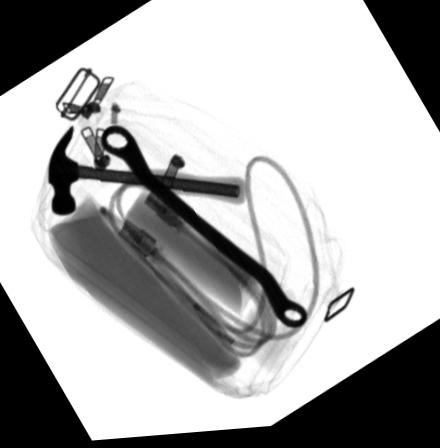Hammer: (45, 122, 244, 216)
Wrench: (98, 126, 308, 334)
